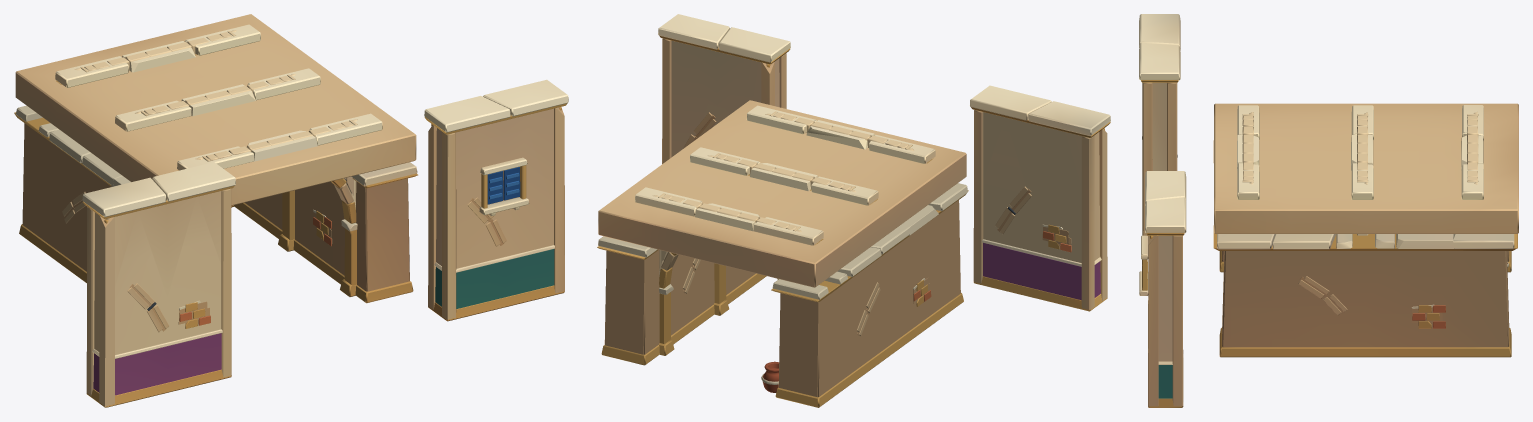
Rendered from b_tunnel.glb.
3 renders of one model, left to right at view 1: azimuth 30°, elevation 25°; view 2: azimuth 150°, elevation 25°; view 3: azimuth 270°, elevation 25°, orthographic. The views are drawn at different scales.
Visible parts, largest first — view 1: b_tunnel; view 2: b_tunnel; view 3: b_tunnel.
Boxes of the visible parts, <box> form: b_tunnel: <box>14,14,568,407</box>; b_tunnel: <box>597,14,1110,407</box>; b_tunnel: <box>1139,14,1518,407</box>.
Bounding box in the file's own units: 12.93 × 5.29 × 9.83.
